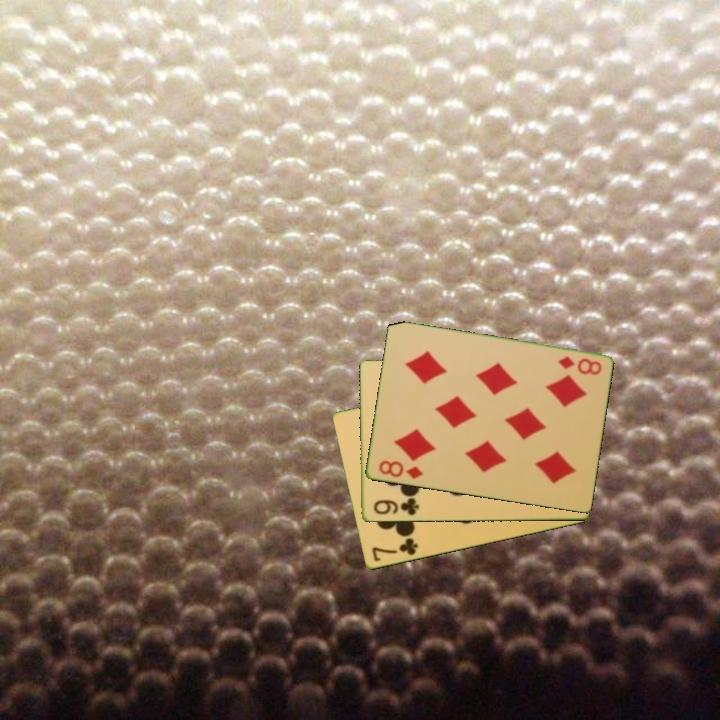7c: (368, 535, 420, 565)
8d: (375, 457, 426, 482), (554, 353, 604, 378)
9c: (370, 495, 421, 519)
